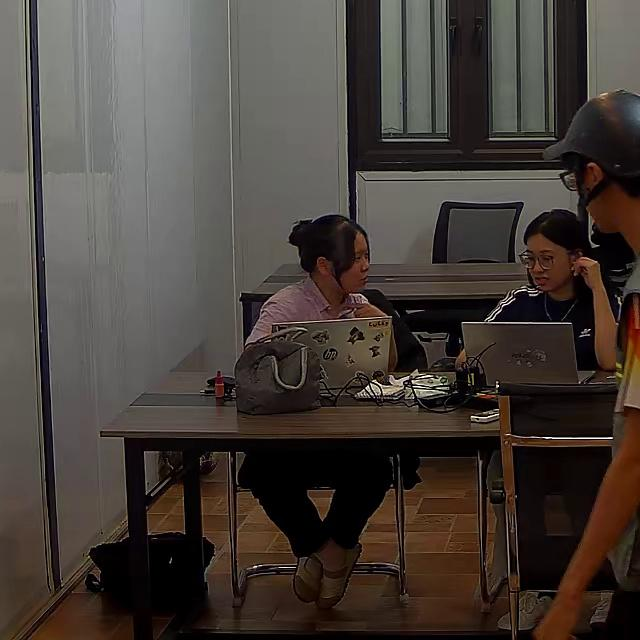helmet: (540, 90, 640, 178)
no_helmet: (287, 214, 364, 276)
none: (481, 284, 621, 372), (242, 275, 372, 352)
